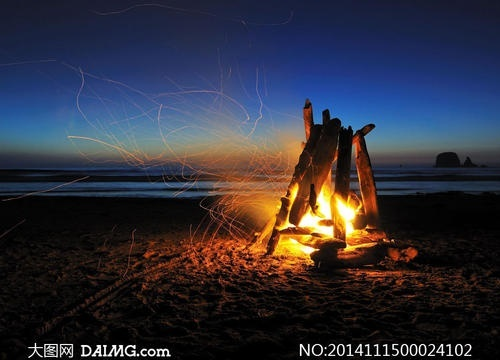fire: (274, 165, 363, 257)
